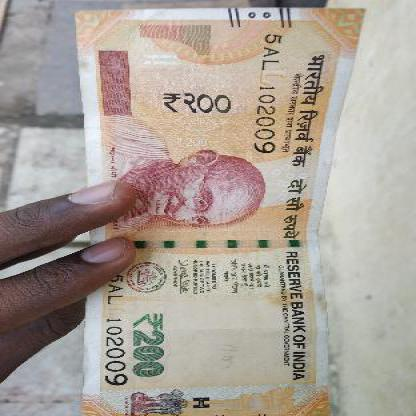New200Front: (75, 7, 333, 412)
